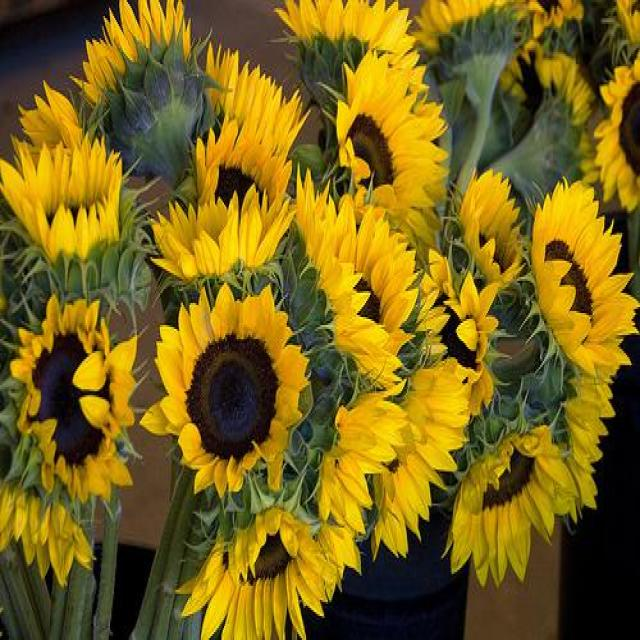sunflower: (154, 288, 311, 510), (295, 163, 418, 389), (10, 296, 136, 506), (532, 175, 640, 381), (174, 509, 338, 640), (447, 426, 580, 587), (368, 358, 471, 559), (337, 54, 450, 207), (0, 138, 128, 251), (418, 249, 500, 417), (318, 380, 406, 534), (148, 185, 295, 273), (71, 0, 193, 106), (207, 44, 310, 144), (196, 111, 292, 218), (2, 484, 95, 588), (458, 164, 530, 283), (276, 0, 415, 58), (566, 371, 616, 520), (595, 51, 640, 214), (502, 42, 592, 121), (9, 80, 82, 146), (414, 1, 501, 48), (530, 0, 584, 37), (615, 1, 640, 42)
